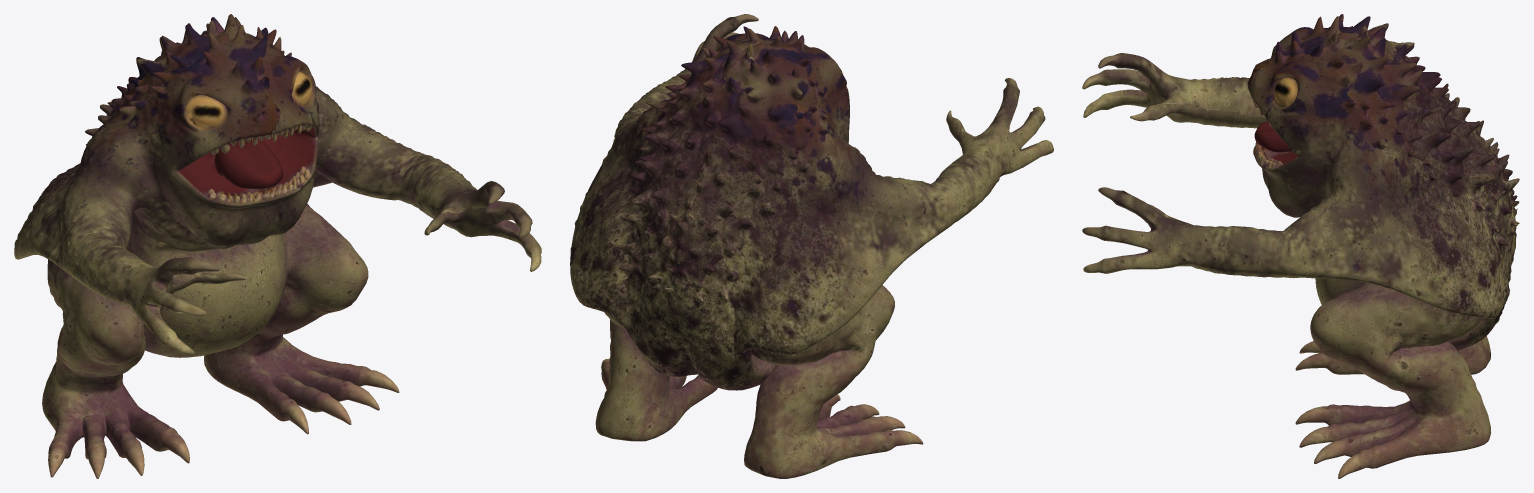
Rendered from MZ4250 - Hydroloth.glb.
3 views of the same model, side by side, from view 1: azimuth 30°, elevation 25°; view 2: azimuth 150°, elevation 25°; view 3: azimuth 270°, elevation 25° (orthographic). The views are drawn at different scales.
Parts seen in each view (by area): view 1: default; view 2: default; view 3: default.
Boxes of the visible parts, left/top/right/bottom form: default: left=14, top=14, right=541, bottom=478; default: left=570, top=14, right=1053, bottom=478; default: left=1082, top=14, right=1519, bottom=478.
Bounding box in the file's own units: 0.8089 × 0.8249 × 0.8682.
Materials: 1 (1 with a texture image).
